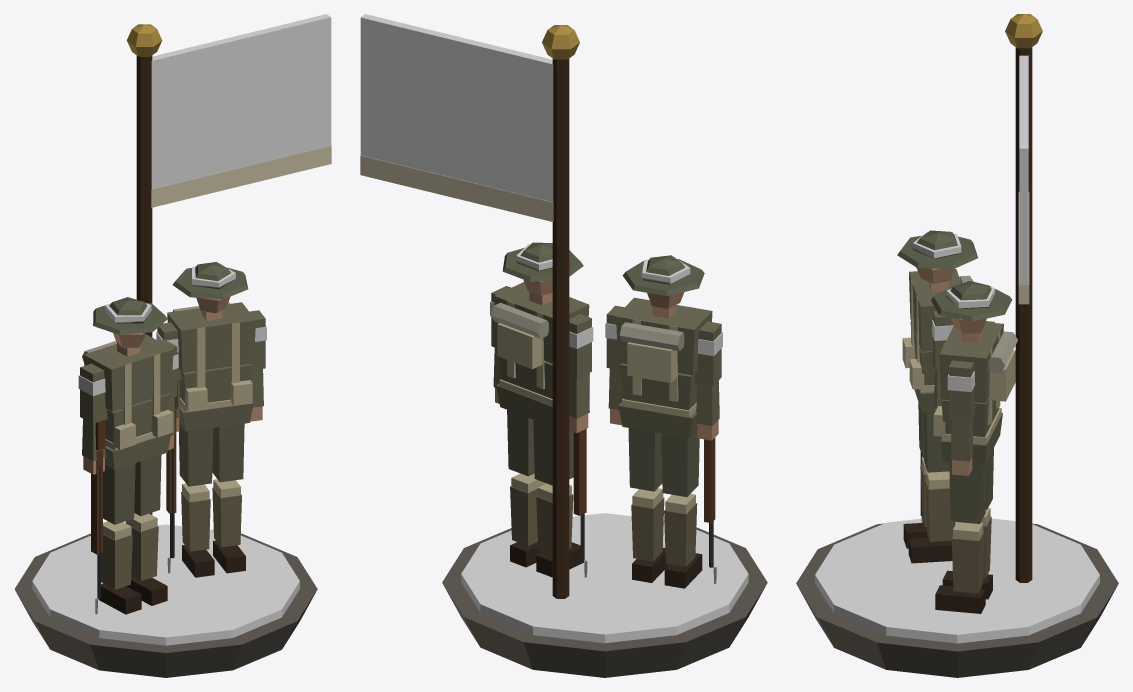
Rendered from map_marker_c20.glb.
3 renders of one model, left to right at view 1: azimuth 30°, elevation 25°; view 2: azimuth 150°, elevation 25°; view 3: azimuth 270°, elevation 25°, orthographic. The views are drawn at different scales.
Visible parts, largest first — view 1: map_marker_c20; view 2: map_marker_c20; view 3: map_marker_c20.
Boxes of the visible parts, x1,y1,x2,y2 form: map_marker_c20: [14, 14, 331, 677]; map_marker_c20: [360, 14, 767, 677]; map_marker_c20: [796, 14, 1118, 677].
Bounding box in the file's own units: 1.69 × 2.85 × 1.36.
